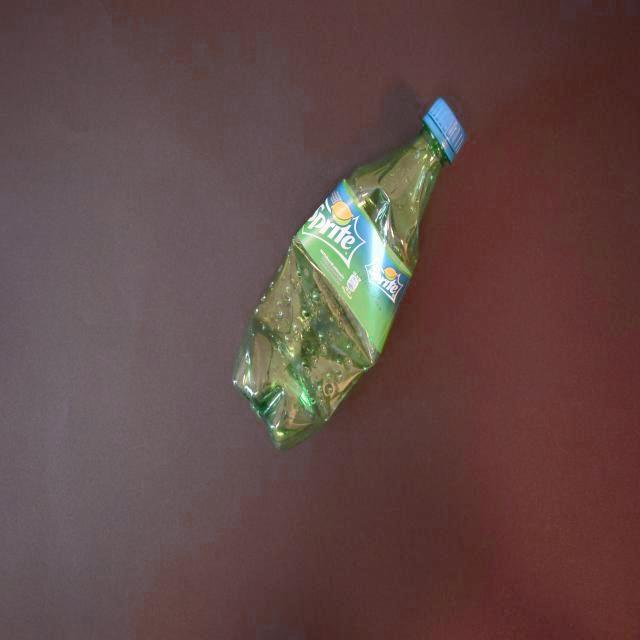bottle: (232, 97, 468, 451)
